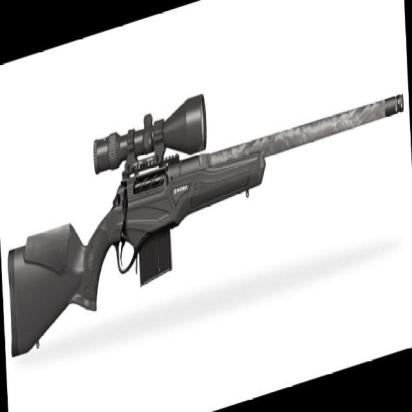Gun: (7, 78, 406, 369)
